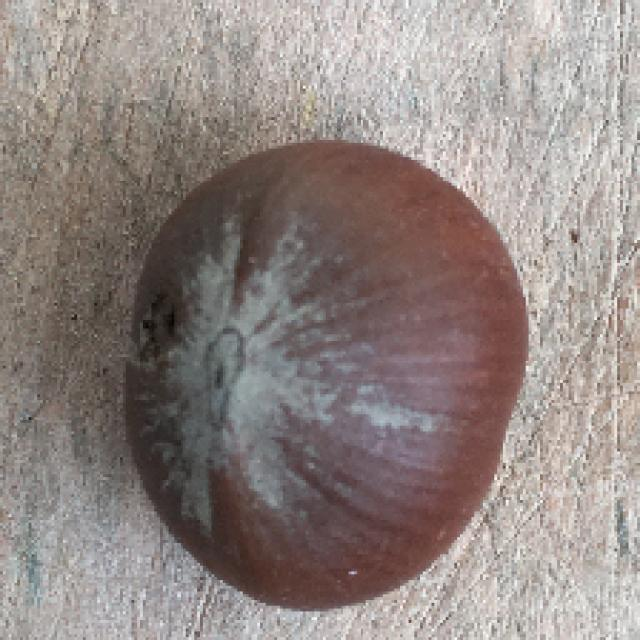damagedHazelnut: (128, 139, 530, 616)
